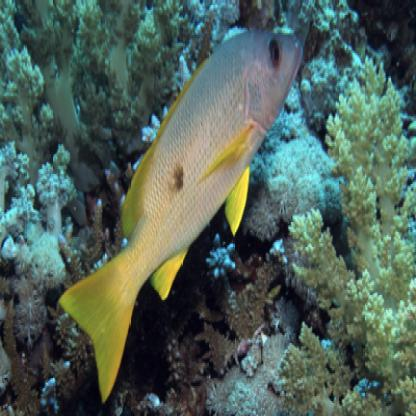snapper: (55, 28, 311, 406)
